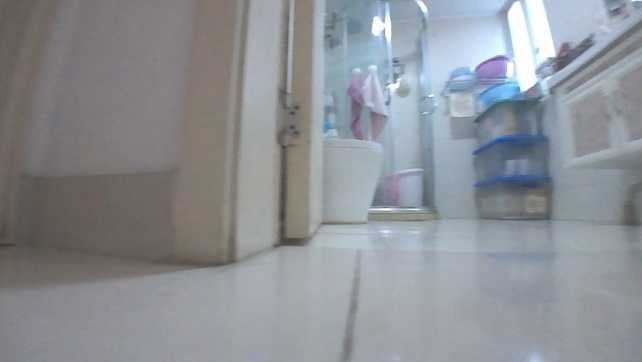toilet: (320, 137, 388, 224)
washstand: (542, 8, 641, 173)
